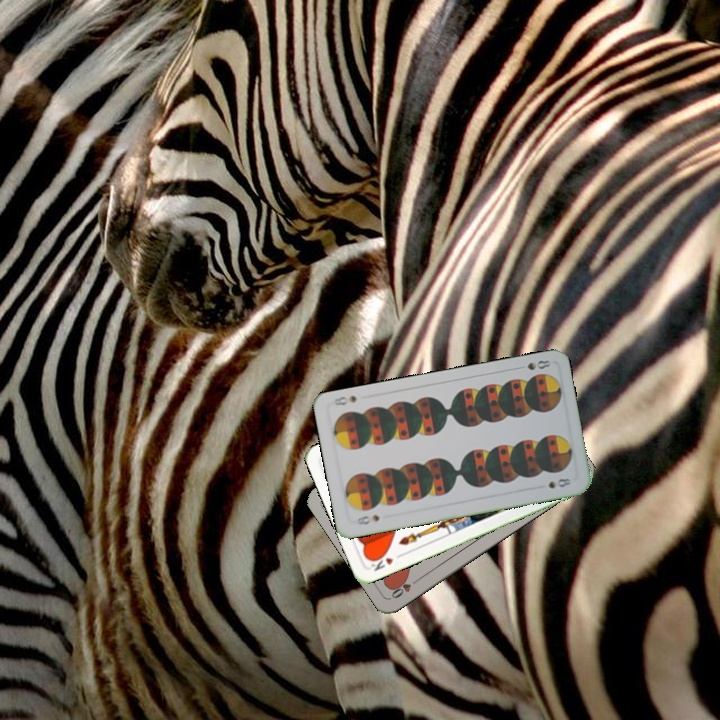HK: (364, 549, 405, 574)
HO: (387, 573, 423, 601)
S8: (513, 356, 553, 373), (352, 511, 382, 527)
